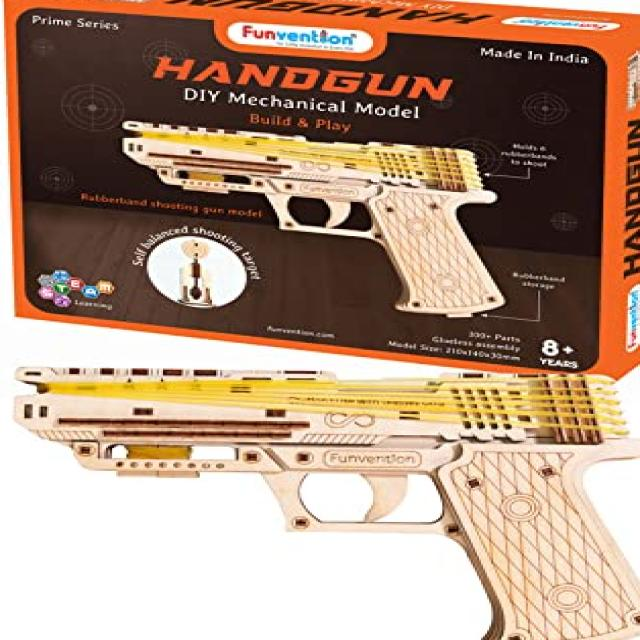Weapon: (16, 366, 640, 640)
